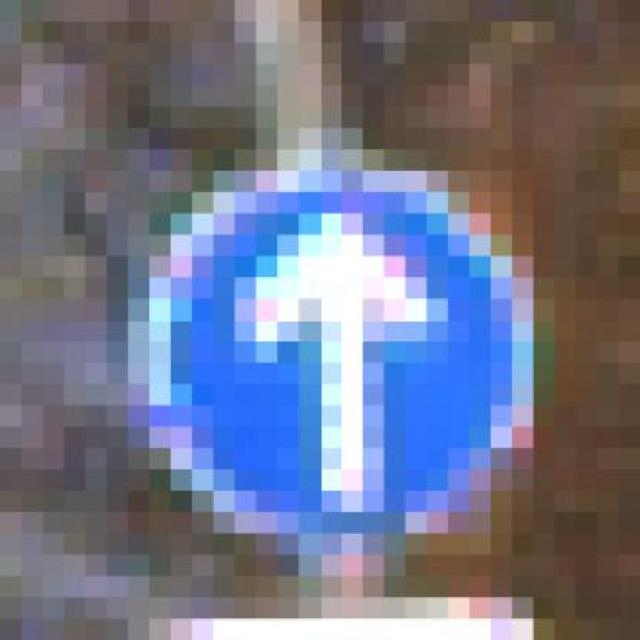Straight Ahead Only: (129, 149, 576, 576)
